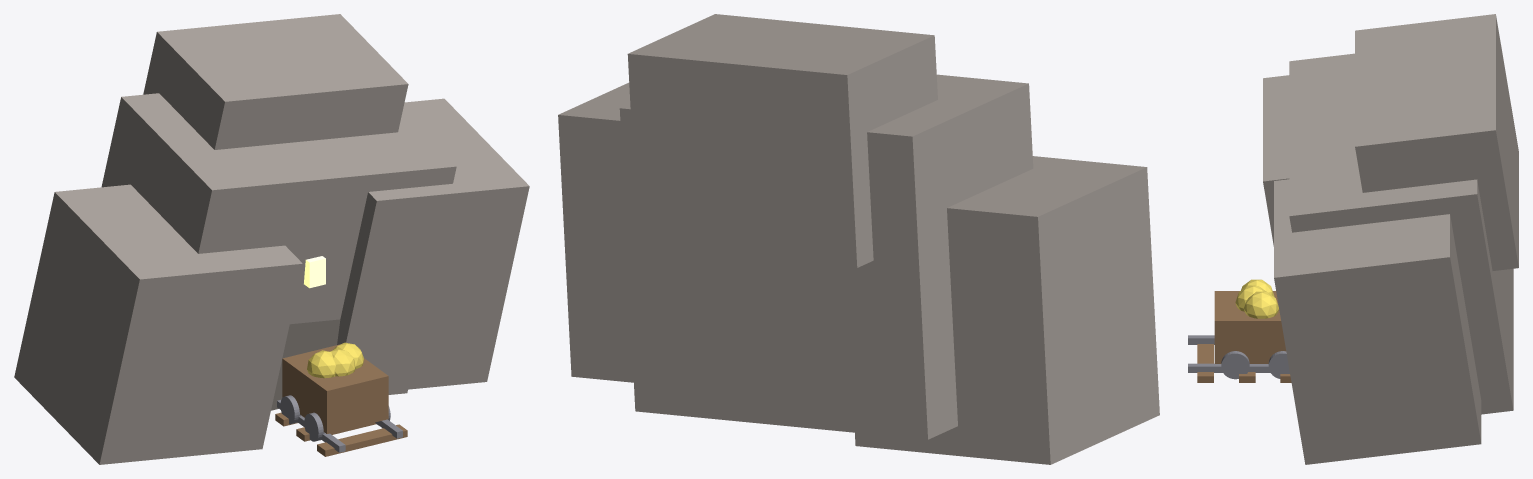
The model's file is building_mine.glb.
3 renders of one model, left to right at view 1: azimuth 30°, elevation 25°; view 2: azimuth 150°, elevation 25°; view 3: azimuth 270°, elevation 25°, orthographic. The views are drawn at different scales.
Parts seen in each view (by area): view 1: Cube.001, Cube, Cube.002, Cube.003, Cube.015, Cube.004, Cube.012, Icosphere.003, Cube.008; view 2: Cube, Cube.003, Cube.001, Cube.002; view 3: Cube.002, Cube.003, Cube, Cube.015, Cube.001, Icosphere.004, Cylinder.002, Cube.012, Cube.014, Cylinder.003, Icosphere.005.
Boxes of the visible parts, box(x1,y1,x2,y2) form: Cube.001: box(14, 184, 302, 464); Cube: box(101, 93, 456, 394); Cube.002: box(337, 98, 529, 391); Cube.003: box(143, 14, 408, 149); Cube.015: box(282, 344, 388, 433); Cube.004: box(271, 319, 340, 410); Cube.012: box(317, 424, 407, 456); Icosphere.003: box(307, 350, 335, 378); Cube.008: box(304, 256, 325, 288); Cube: box(619, 74, 1033, 439); Cube.003: box(627, 14, 937, 267); Cube.001: box(855, 156, 1159, 464); Cube.002: box(558, 82, 633, 382); Cube.002: box(1274, 179, 1481, 464); Cube.003: box(1355, 14, 1518, 270); Cube: box(1289, 53, 1513, 414); Cube.015: box(1214, 291, 1285, 363); Cube.001: box(1263, 75, 1289, 246); Icosphere.004: box(1243, 291, 1278, 318); Cylinder.002: box(1221, 351, 1249, 379); Cube.012: box(1197, 344, 1213, 382); Cube.014: box(1188, 363, 1270, 372); Cylinder.003: box(1268, 351, 1289, 378); Icosphere.005: box(1235, 285, 1266, 311).
Bounding box in the file's own units: 4.12 × 3.19 × 2.79.
